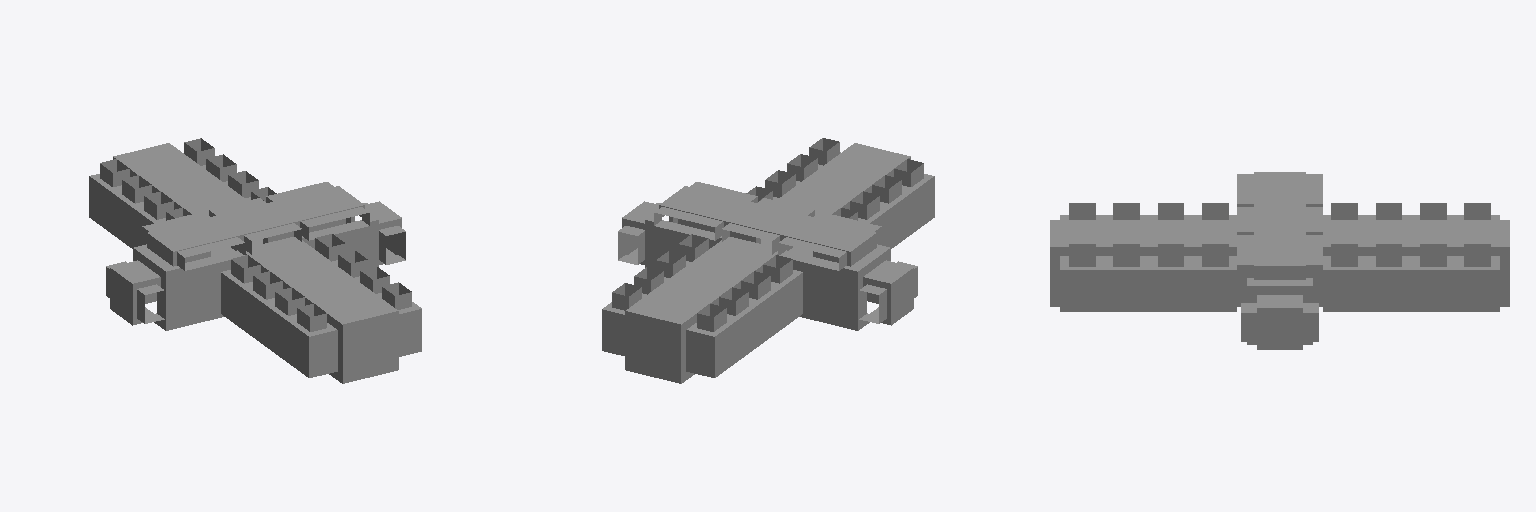
Rendered from halldrommaya.obj.
The picture shows the model from 3 angles: view 1: azimuth 30°, elevation 25°; view 2: azimuth 150°, elevation 25°; view 3: azimuth 270°, elevation 25°; orthographic projection.
Parts seen in each view (by area): view 1: hall:Mesh; view 2: hall:Mesh; view 3: hall:Mesh.
Part boxes in pixels (x1,y1,x2,y2): hall:Mesh: (89,138,421,383); hall:Mesh: (602,138,934,383); hall:Mesh: (1050,172,1509,349).
Size of the model in its own units: 19 by 5 by 28.